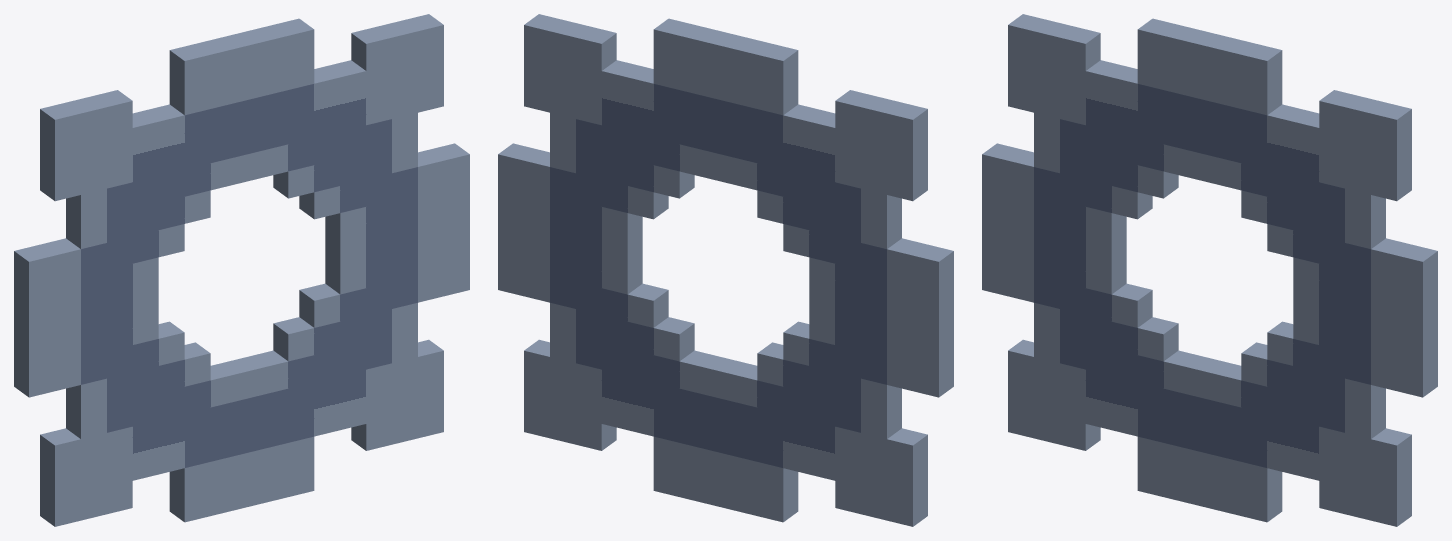
Rendered from Gear.fbx.
3 renders of one model, left to right at view 1: azimuth 30°, elevation 25°; view 2: azimuth 150°, elevation 25°; view 3: azimuth 330°, elevation 25°, orthographic.
Parts seen in each view (by area): view 1: Gear; view 2: Gear; view 3: Gear.
Part boxes in pixels (x1,y1,x2,y2): Gear: (14, 14, 469, 526); Gear: (498, 14, 953, 526); Gear: (982, 14, 1437, 526).
Bounding box in the file's own units: 17 × 17 × 1.
Materials: 1 (1 with a texture image).
